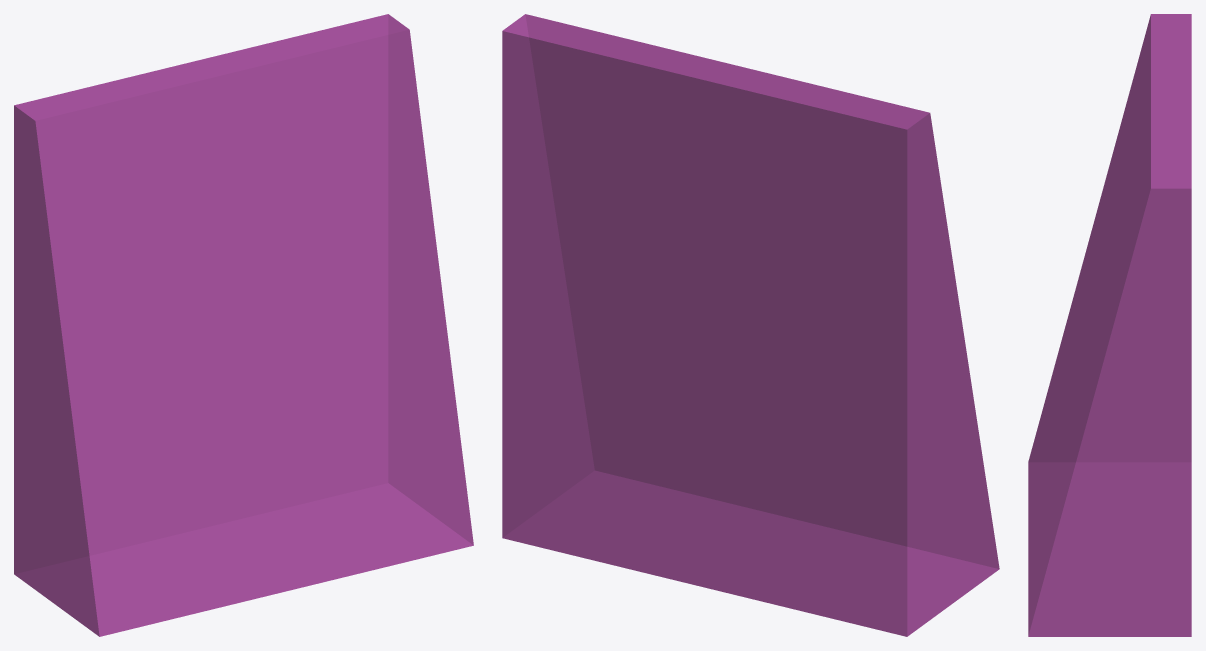
Rendered from SM_Bld_Wall_Fort_Top_02_Collision.fbx.
3 renders of one model, left to right at view 1: azimuth 30°, elevation 25°; view 2: azimuth 150°, elevation 25°; view 3: azimuth 270°, elevation 25°, orthographic. The views are drawn at different scales.
Visible parts, largest first — view 1: SM_Bld_Wall_Fort_Top_02_Collision; view 2: SM_Bld_Wall_Fort_Top_02_Collision; view 3: SM_Bld_Wall_Fort_Top_02_Collision.
Part boxes in pixels (x1=…): SM_Bld_Wall_Fort_Top_02_Collision: x1=14, y1=14, x2=473, y2=636; SM_Bld_Wall_Fort_Top_02_Collision: x1=502, y1=14, x2=999, y2=636; SM_Bld_Wall_Fort_Top_02_Collision: x1=1028, y1=14, x2=1191, y2=636.
Size of the model in its own units: 503 by 602 by 199.
